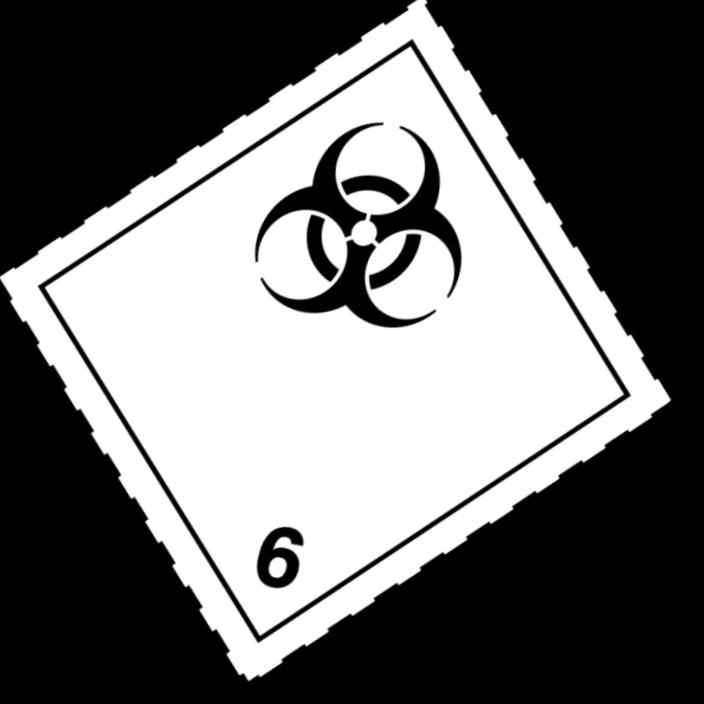doors: (0, 0, 677, 687)
